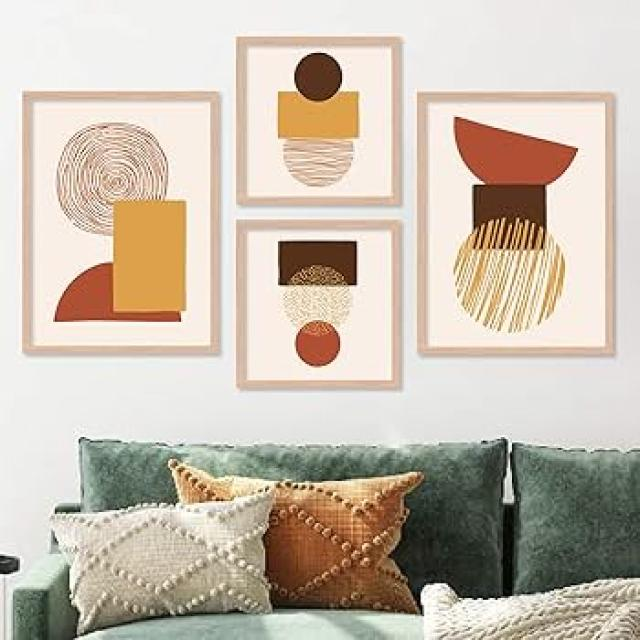painting: (419, 91, 615, 356), (24, 88, 220, 350), (236, 220, 401, 389), (236, 36, 400, 204)
